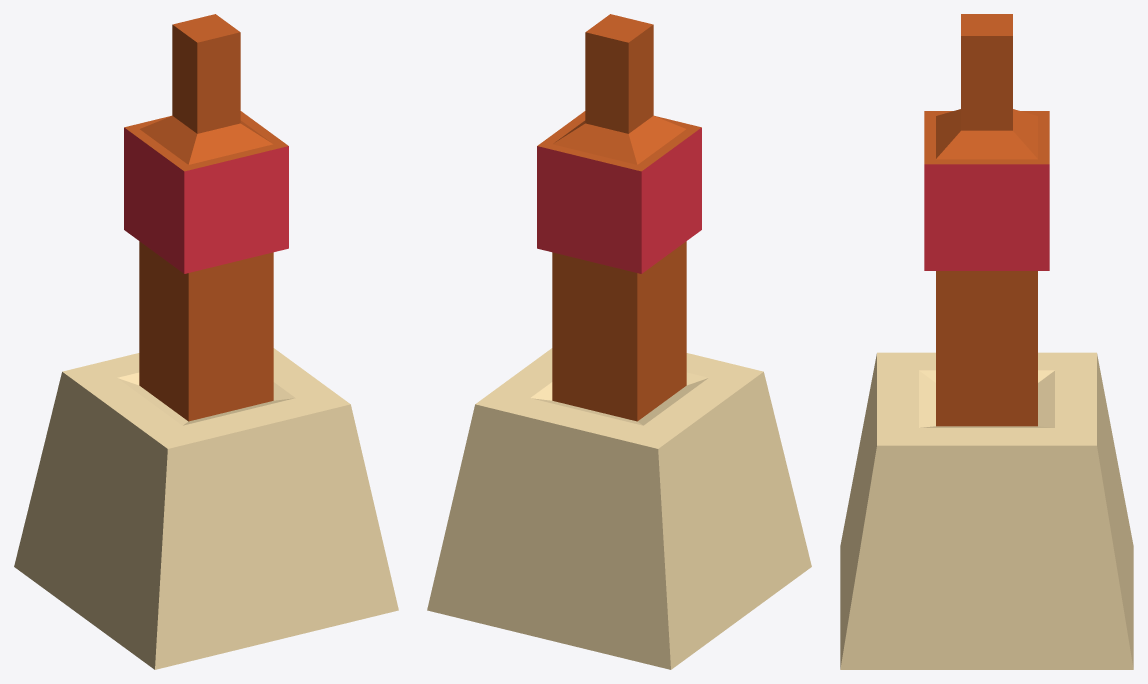
The model's file is Stone_Mark_1.fbx.
3 renders of one model, left to right at view 1: azimuth 30°, elevation 25°; view 2: azimuth 150°, elevation 25°; view 3: azimuth 270°, elevation 25°, orthographic. The views are drawn at different scales.
Visible parts, largest first — view 1: Stone_Mark_1; view 2: Stone_Mark_1; view 3: Stone_Mark_1.
Part boxes in pixels (bbox=[...]): Stone_Mark_1: bbox=[14, 14, 398, 669]; Stone_Mark_1: bbox=[427, 14, 811, 669]; Stone_Mark_1: bbox=[840, 14, 1133, 669].
Bounding box in the file's own units: 70 × 154 × 70.
